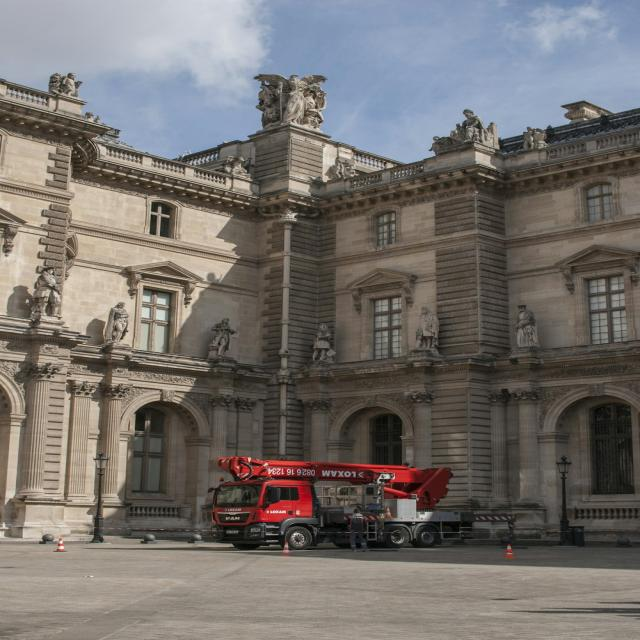emergency: (211, 456, 514, 550)
